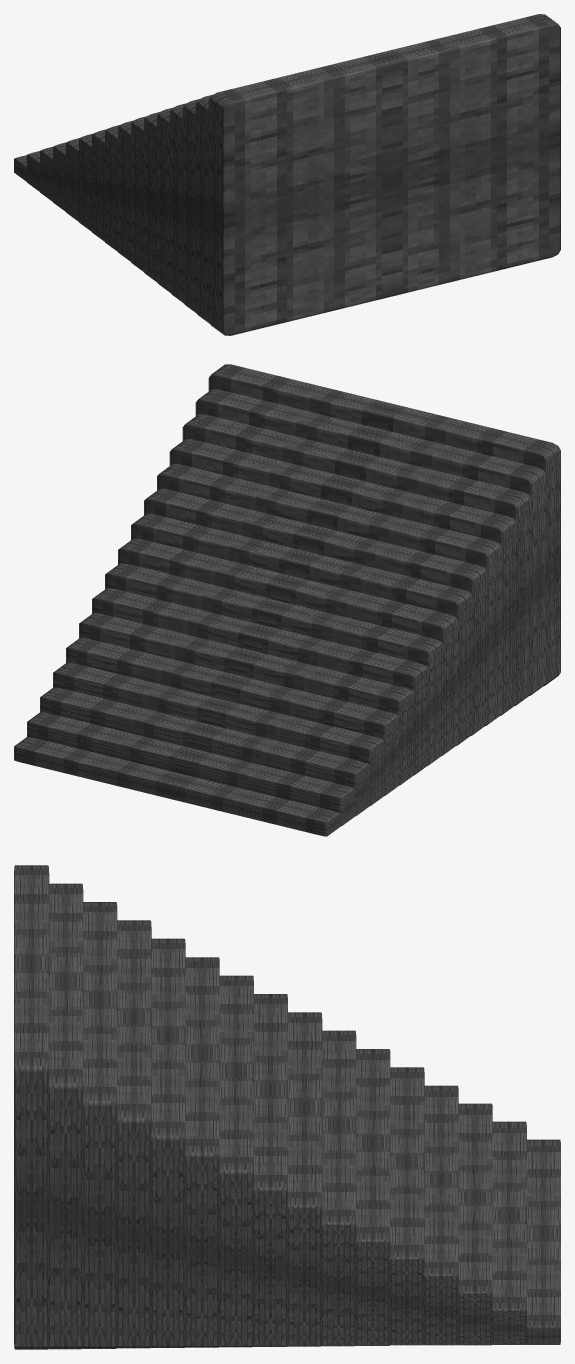
File: chock.glb
3 renders of one model, top to bottom at view 1: azimuth 30°, elevation 25°; view 2: azimuth 150°, elevation 25°; view 3: azimuth 270°, elevation 25°, orthographic. The views are drawn at different scales.
Visible parts, largest first — view 1: wedge (×15); view 2: wedge (×16); view 3: wedge (×16).
Boxes of the visible parts, box(x1,y1,x2,y2) form: wedge (×15): box(27, 14, 560, 335); wedge (×16): box(14, 364, 560, 836); wedge (×16): box(14, 865, 560, 1349).
Bounding box in the file's own units: 0.2277 × 0.15 × 0.2584.
Materials: 1 (1 with a texture image).
